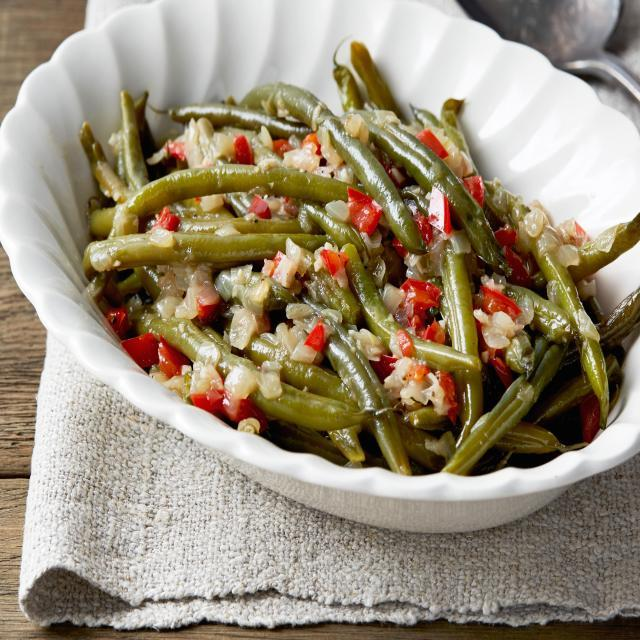Beans: (71, 48, 639, 488)
